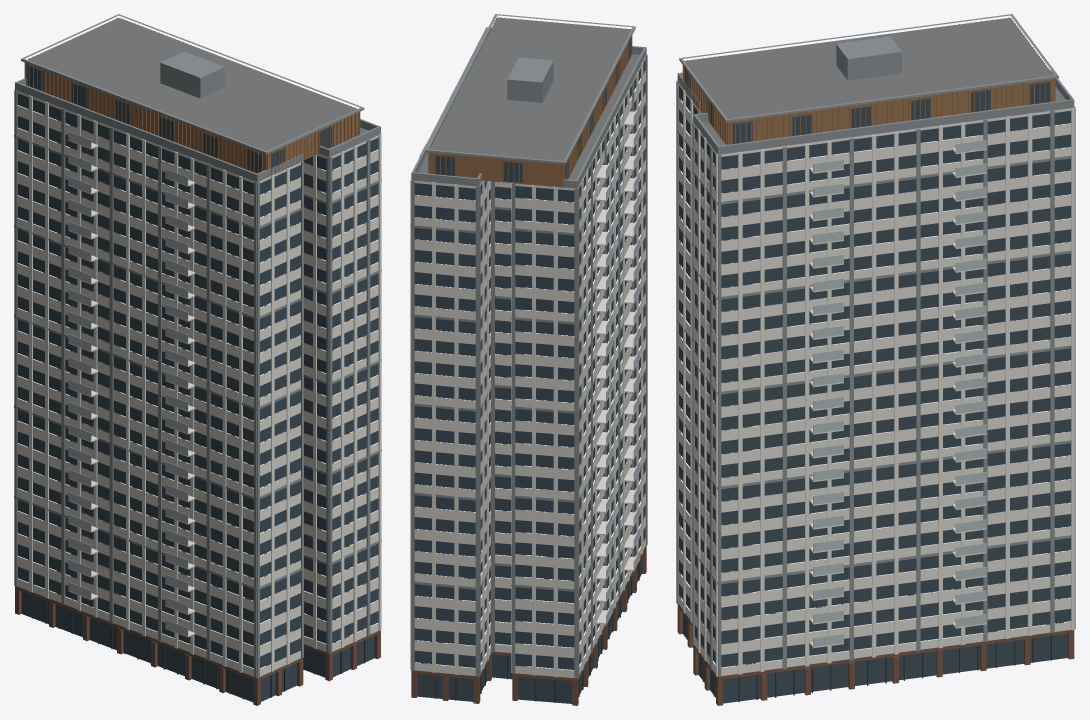
The model's file is norland_house.glb.
The picture shows the model from 3 angles, left to right: view 1: azimuth 30°, elevation 25°; view 2: azimuth 150°, elevation 25°; view 3: azimuth 270°, elevation 25°; orthographic projection. The views are drawn at different scales.
Bounding box in the file's own units: 29.49 × 69.57 × 41.94.
